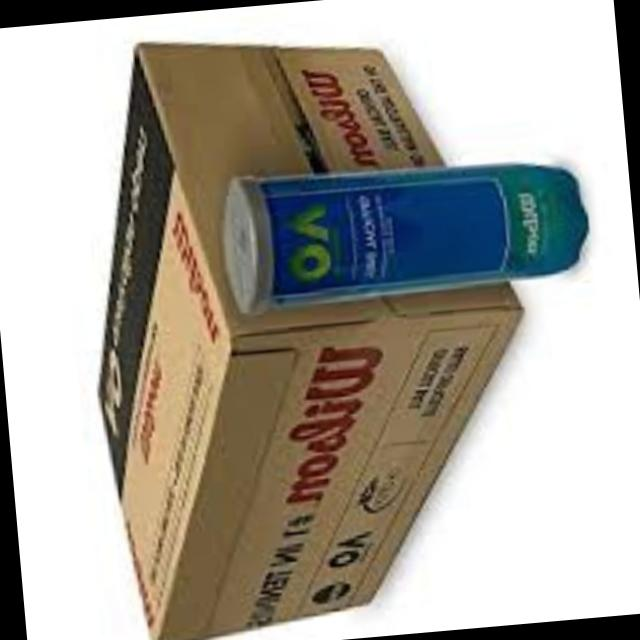cardboard paper: (94, 39, 513, 640)
